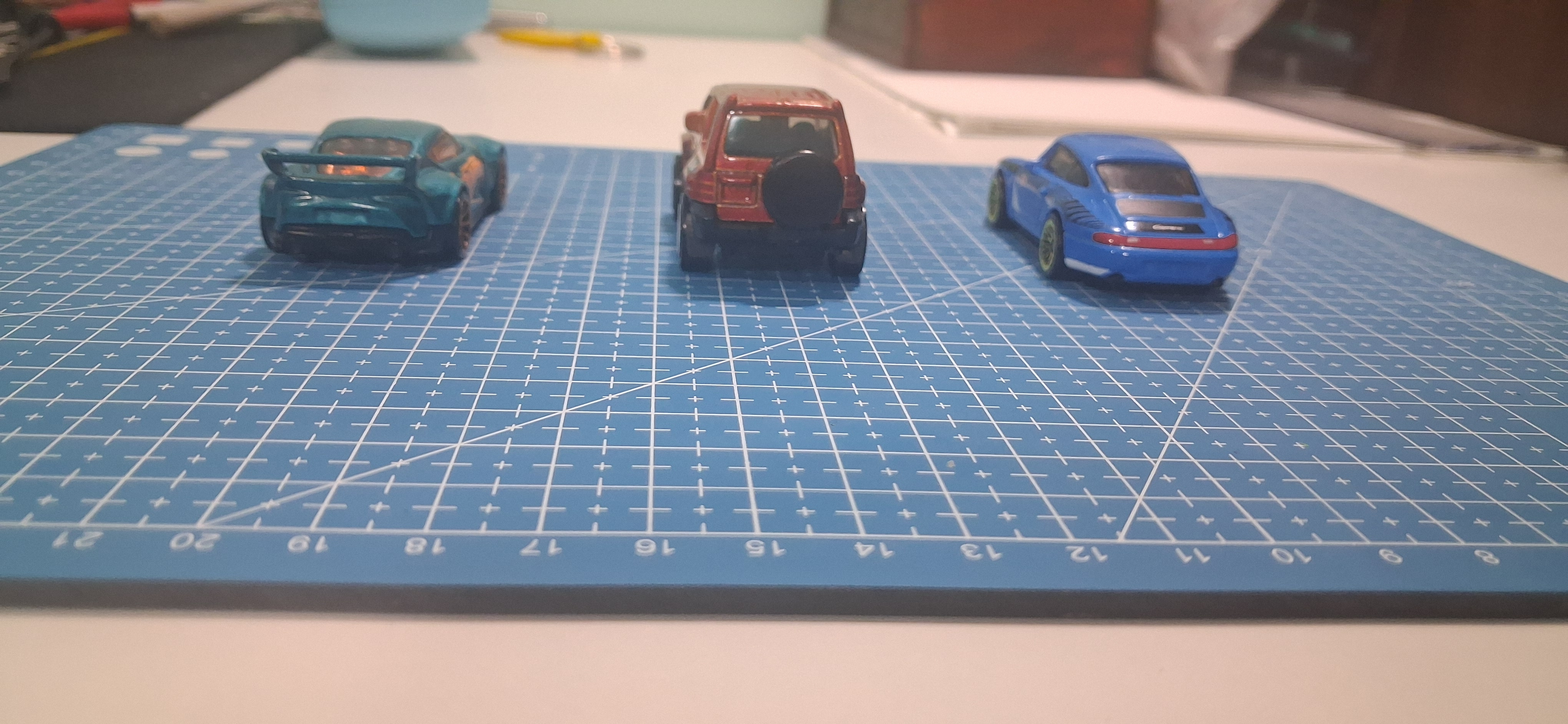Mitsubishi_Pajero_Evolution: (641, 58, 907, 316)
Porsche_Carrera: (974, 96, 1256, 321)
Toyota_GR_Supra: (180, 91, 562, 284)
